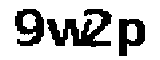2: (88, 6, 115, 51)
9: (12, 6, 46, 50)
p: (116, 15, 149, 60)
w: (45, 16, 90, 49)
